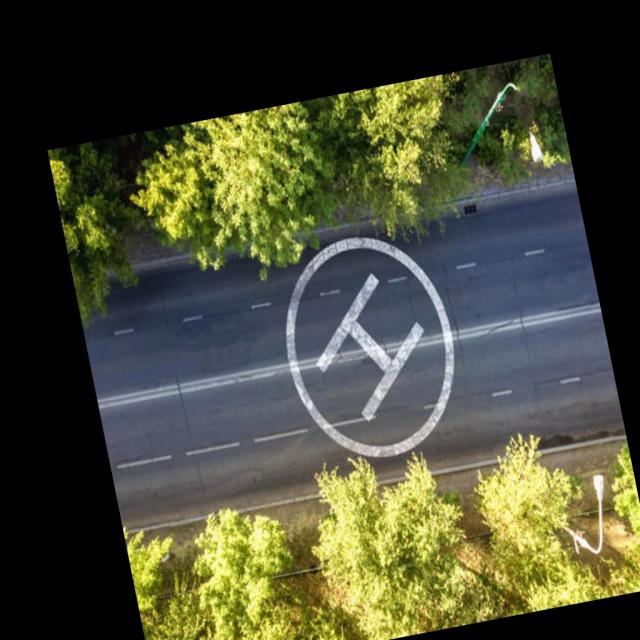helipad: (281, 232, 456, 460)
